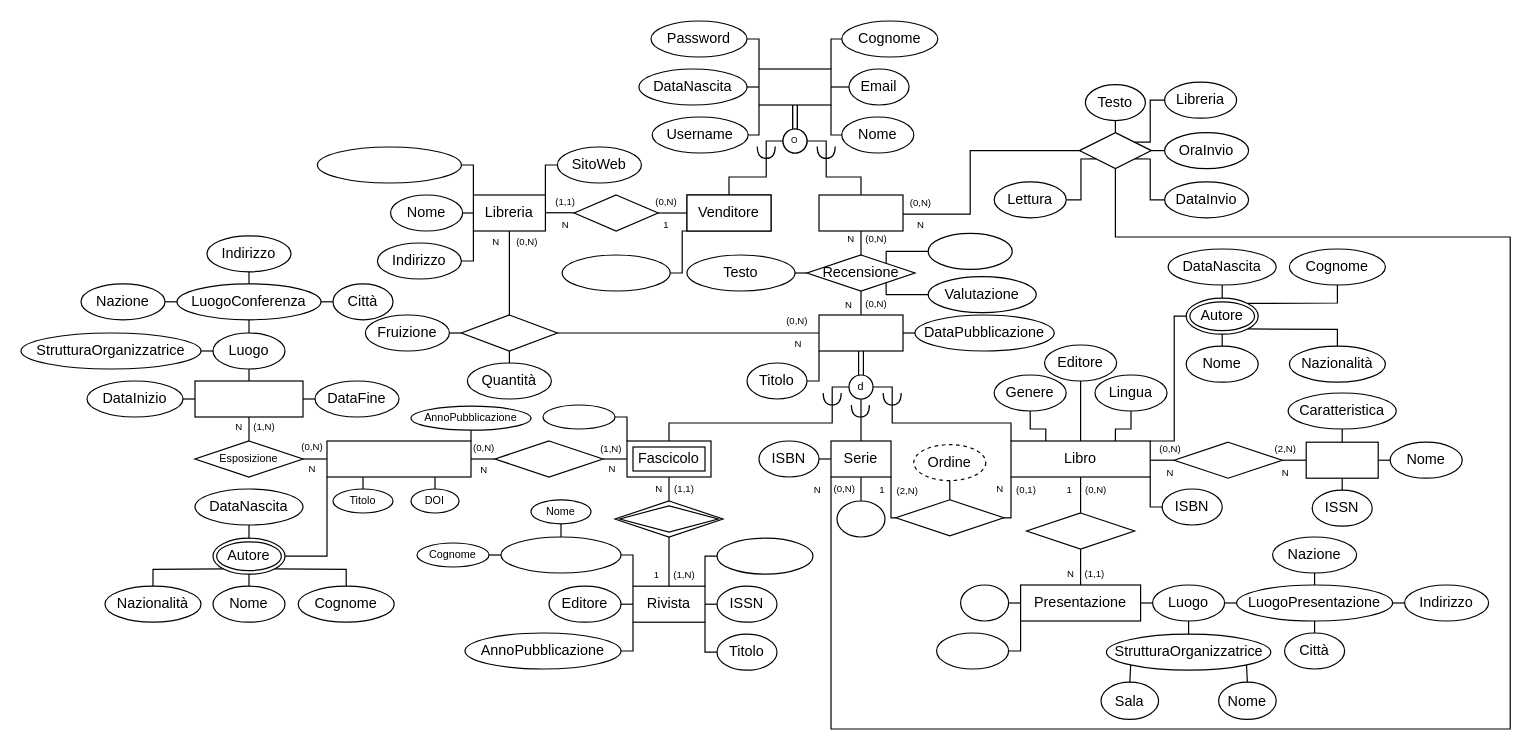
This 1532x751 diagram has some shape labels left out. The shapes that lost their labels are listed below. From the top down, each one's centre as x and y in pixels, then its label:
[794,86]: Utente
[388,164]: NumeroTelefonico
[1114,150]: Notifica
[615,212]: Gestione
[860,212]: Standard
[969,250]: Preferito
[615,272]: PartitaIVA
[508,332]: Possesso
[860,332]: Elemento
[248,398]: Conferenza
[578,416]: Numero
[398,458]: Articolo_Scientifico
[548,458]: Introduzione
[1227,459]: Appartenenza
[1341,459]: Collana
[668,518]: Composizione
[860,518]: NLibri
[949,517]: Inserimento
[1080,530]: Partecipazione
[560,554]: Responsabile
[764,555]: Argomento
[984,602]: Ora
[972,650]: DataP
